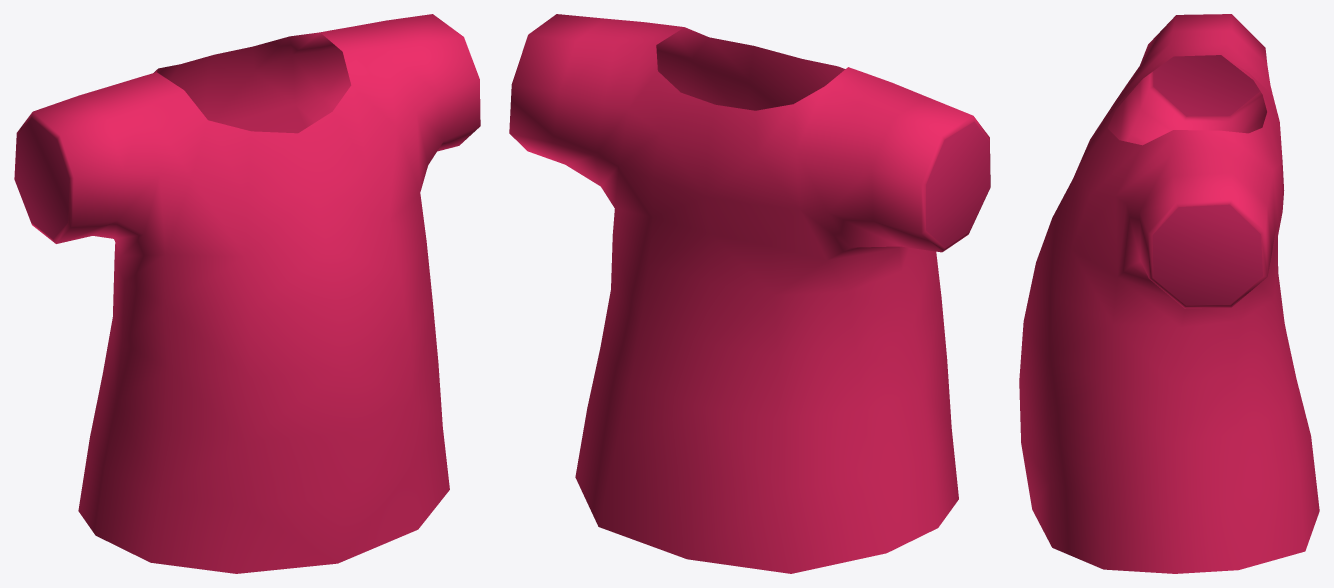
The model's file is Outerwear_Pink_015.glb.
3 views of the same model, side by side, from view 1: azimuth 30°, elevation 25°; view 2: azimuth 150°, elevation 25°; view 3: azimuth 270°, elevation 25° (orthographic). The views are drawn at different scales.
Visible parts, largest first — view 1: Outerwear_Pink_015; view 2: Outerwear_Pink_015; view 3: Outerwear_Pink_015.
Part boxes in pixels (<box>): Outerwear_Pink_015: <box>14,14,480,573</box>; Outerwear_Pink_015: <box>509,14,990,573</box>; Outerwear_Pink_015: <box>1019,14,1319,573</box>.
Size of the model in its own units: 0.609 by 0.6218 by 0.4048.
1 material, 1 textured.
